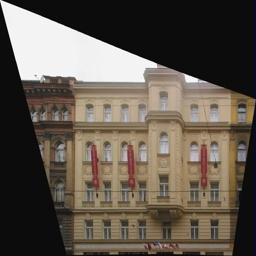building: (70, 55, 232, 256)
